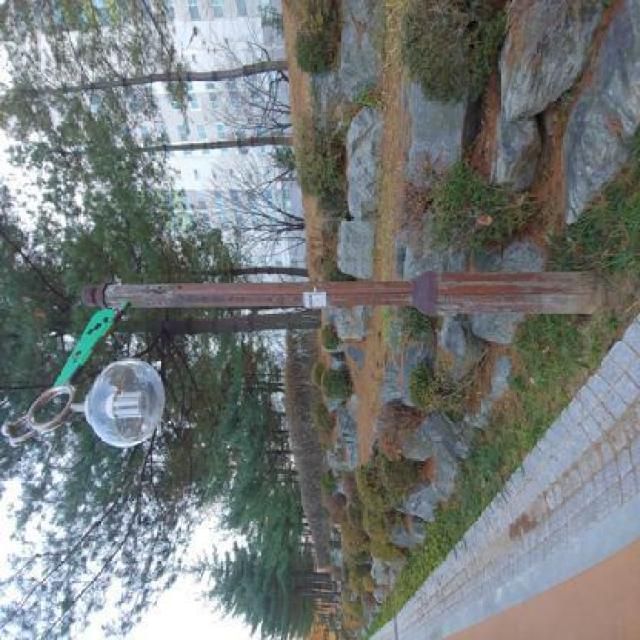pole: (77, 255, 628, 328)
